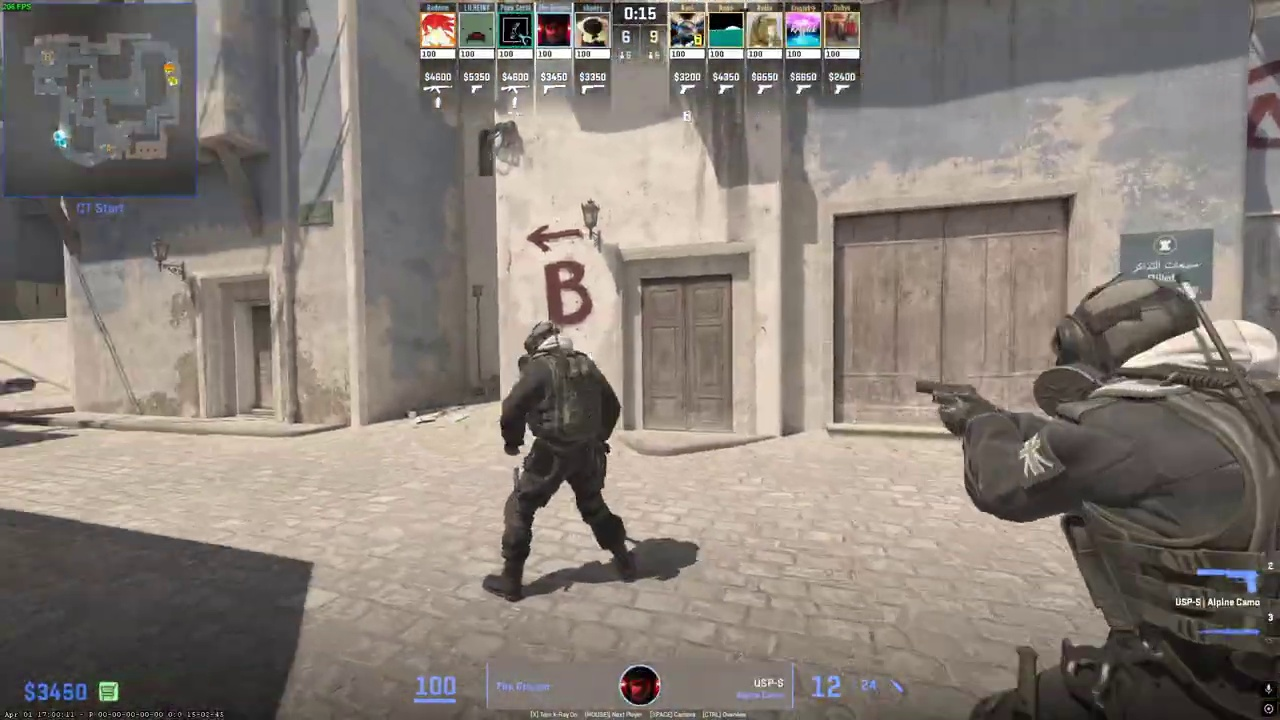CT: (982, 272, 1280, 720), (485, 321, 631, 602)
